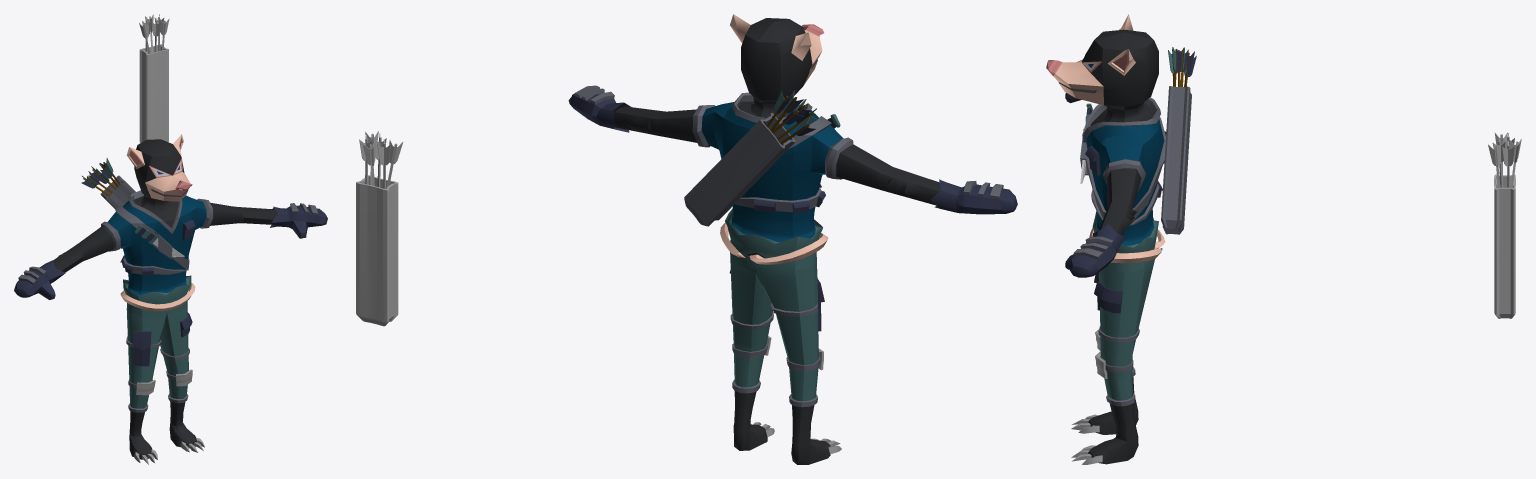
Rendered from topo.fbx.
3 views of the same model, side by side, from view 1: azimuth 30°, elevation 25°; view 2: azimuth 150°, elevation 25°; view 3: azimuth 270°, elevation 25° (orthographic). The views are drawn at different scales.
Parts seen in each view (by area): view 1: topo1, pCube7; view 2: topo1, pCube7; view 3: topo1, pCube7.
Boxes of the visible parts, bbox=[...] form: topo1: bbox=[14, 134, 327, 464]; pCube7: bbox=[139, 44, 168, 142]; topo1: bbox=[568, 14, 1017, 464]; pCube7: bbox=[356, 175, 398, 326]; topo1: bbox=[1046, 14, 1196, 464]; pCube7: bbox=[1494, 174, 1515, 318].
Bounding box in the file's own units: 66.25 × 61.57 × 64.43.
